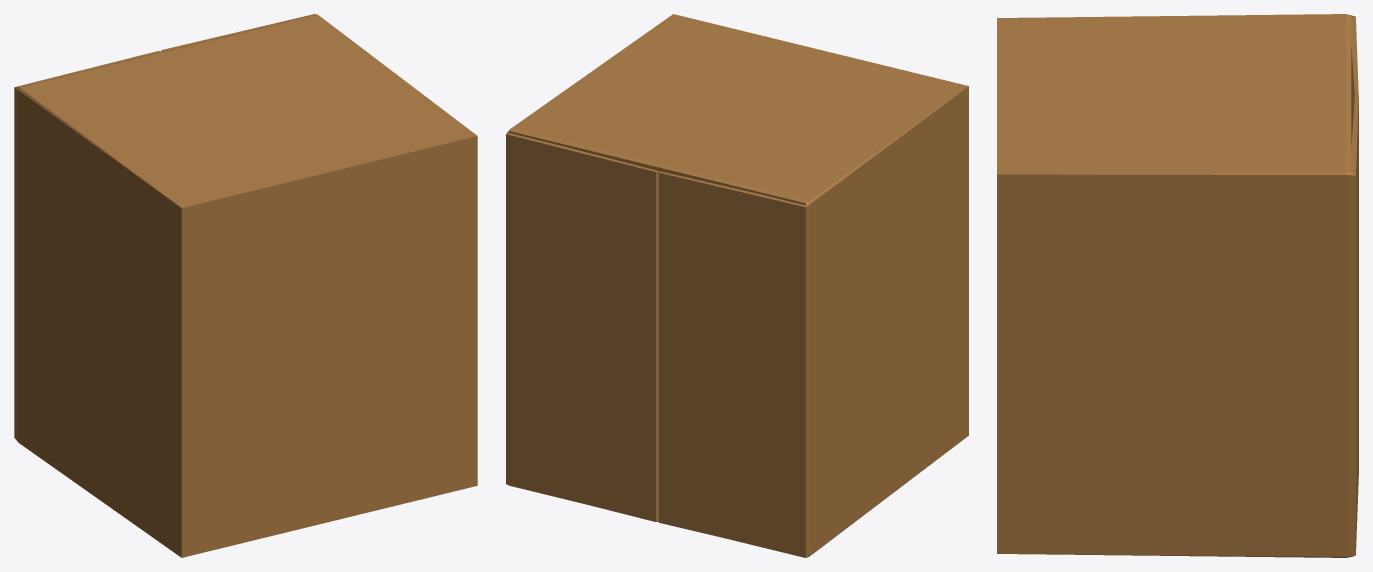
Rendered from Cardboard_Box.fbx.
3 renders of one model, left to right at view 1: azimuth 30°, elevation 25°; view 2: azimuth 150°, elevation 25°; view 3: azimuth 270°, elevation 25°, orthographic. The views are drawn at different scales.
Visible parts, largest first — view 1: Cardboard_Box; view 2: Cardboard_Box; view 3: Cardboard_Box.
Boxes of the visible parts, <box> form: Cardboard_Box: <box>14,14,477,557</box>; Cardboard_Box: <box>506,14,968,557</box>; Cardboard_Box: <box>997,14,1358,557</box>.
Size of the model in its own units: 0.5544 by 0.6251 by 0.5308.
